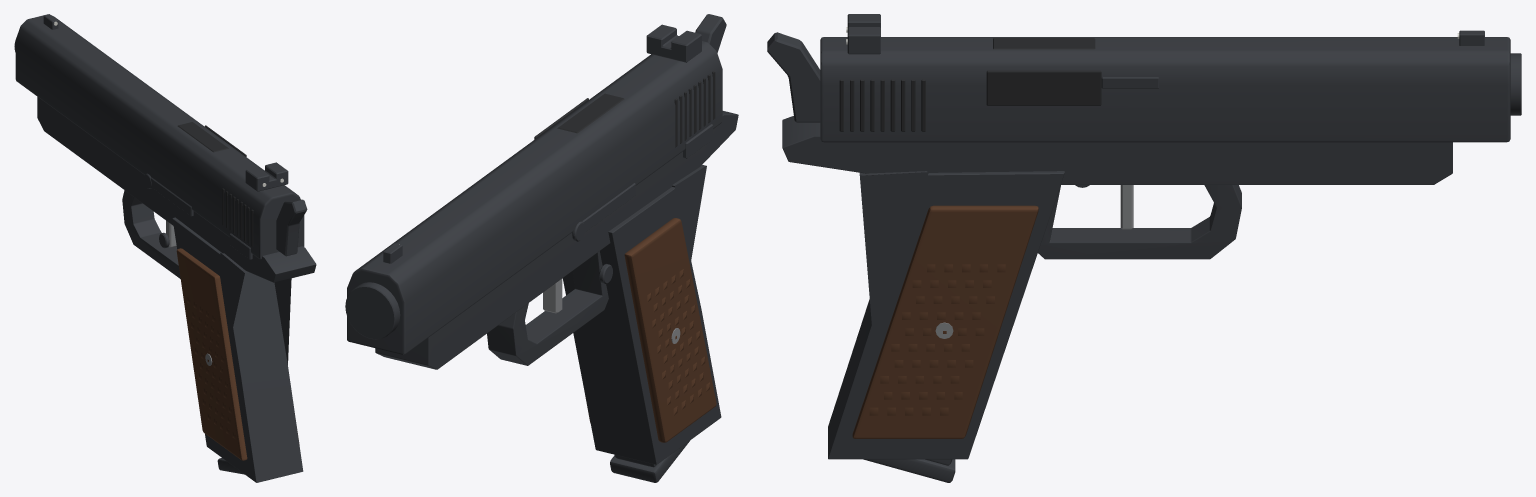
The model's file is wpn_akimbo_warden_45.glb.
3 views of the same model, side by side, from view 1: azimuth 30°, elevation 25°; view 2: azimuth 150°, elevation 25°; view 3: azimuth 270°, elevation 25° (orthographic). The views are drawn at different scales.
Visible parts, largest first — view 1: Frame, Slide, GripPanels, SlideDetails, Hammer, GripChecker, Controls, RearSight; view 2: Slide, Frame, GripPanels, SlideDetails, GripChecker, Controls, RearSight, Magazine, Hammer, Trigger; view 3: Slide, Frame, GripPanels, SlideDetails, GripChecker, Hammer, RearSight, Magazine.
Boxes of the visible parts, bbox=[...] form: Frame: bbox=[37, 97, 316, 482]; Slide: bbox=[15, 15, 304, 259]; GripPanels: bbox=[176, 248, 299, 460]; SlideDetails: bbox=[14, 14, 253, 246]; Hammer: bbox=[276, 199, 307, 256]; GripChecker: bbox=[187, 297, 235, 439]; Controls: bbox=[144, 173, 252, 259]; RearSight: bbox=[245, 162, 288, 191]; Slide: bbox=[347, 41, 722, 354]; Frame: bbox=[375, 111, 738, 464]; GripPanels: bbox=[585, 218, 716, 442]; SlideDetails: bbox=[345, 70, 715, 339]; GripChecker: bbox=[647, 269, 709, 415]; Controls: bbox=[572, 124, 712, 284]; RearSight: bbox=[646, 24, 701, 62]; Magazine: bbox=[610, 441, 689, 482]; Hammer: bbox=[695, 14, 726, 52]; Trigger: bbox=[543, 278, 562, 313]; Slide: bbox=[820, 37, 1510, 142]; Frame: bbox=[782, 116, 1452, 459]; GripPanels: bbox=[852, 205, 1038, 438]; SlideDetails: bbox=[839, 30, 1521, 131]; GripChecker: bbox=[869, 264, 1005, 415]; Hammer: bbox=[767, 32, 820, 122]; RearSight: bbox=[847, 14, 880, 54]; Magazine: bbox=[863, 459, 955, 482].
Bounding box in the file's own units: 0.031 × 0.1546 × 0.2361.
